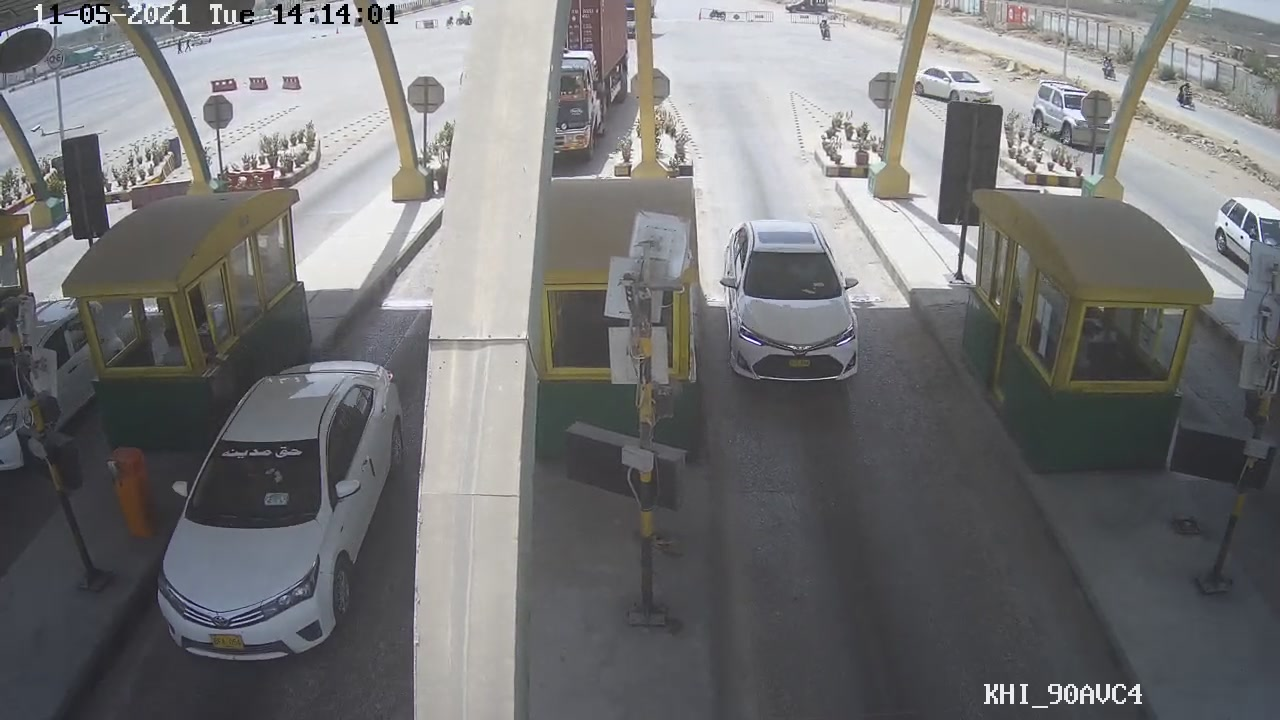F1: (717, 214, 875, 407)
